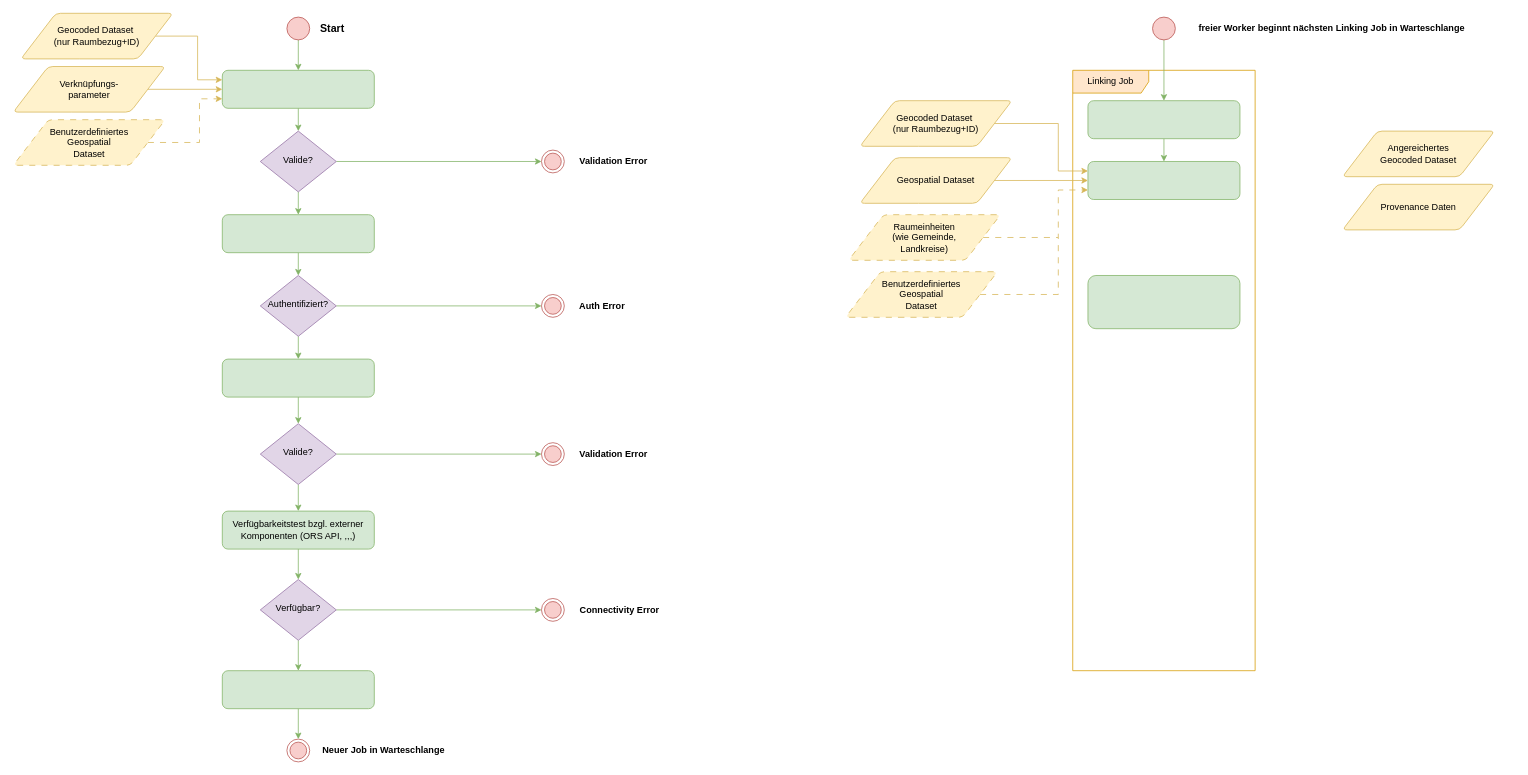
The diagram is 1528 pixels wide and 775 high, and some of its shapes have lost their labels. Each missing label, with the centre of its shape:
Bereitstellung aller benötigten Datensätze & Import in Datenbank: point (1163, 180)
Erste Validierung bzgl. Datenschema: point (298, 89)
Geolinking: point (1163, 302)
Neuer Job in Datenbank anlegen: point (298, 689)
Neuer Job in Datenbank starten: point (1163, 119)
Nutzerauthentifizierung: point (298, 233)
Validierung der Eingabedaten: point (298, 377)
